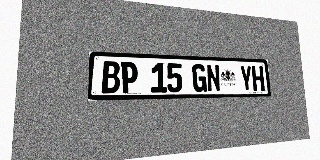1: (151, 62, 167, 93)
5: (167, 63, 182, 92)
B: (101, 61, 120, 93)
G: (192, 64, 207, 92)
H: (251, 66, 265, 91)
N: (206, 64, 221, 92)
P: (120, 62, 138, 93)
Y: (239, 65, 253, 91)
